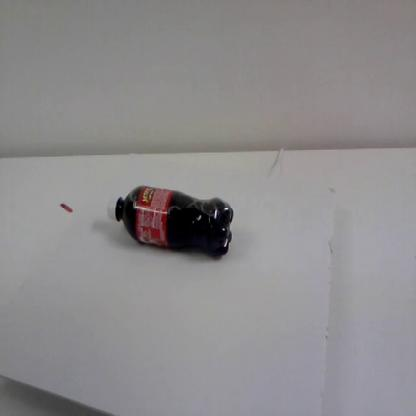bottle: (104, 181, 233, 263)
